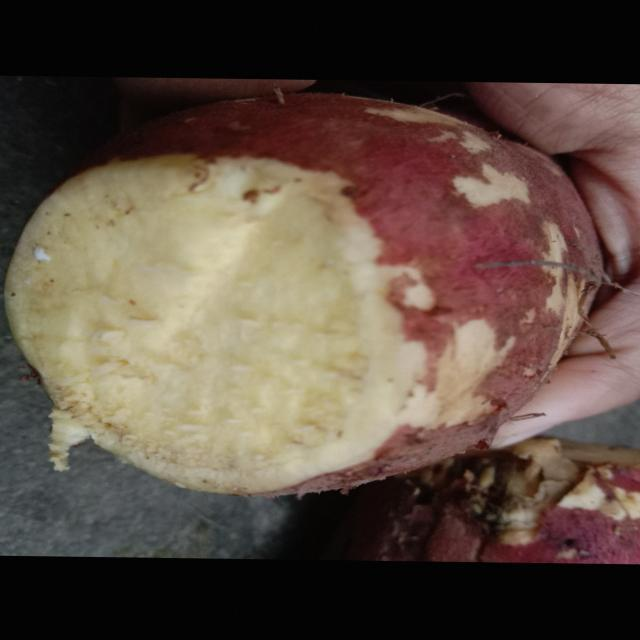Healthy Sweet Potato: (7, 155, 435, 495)
